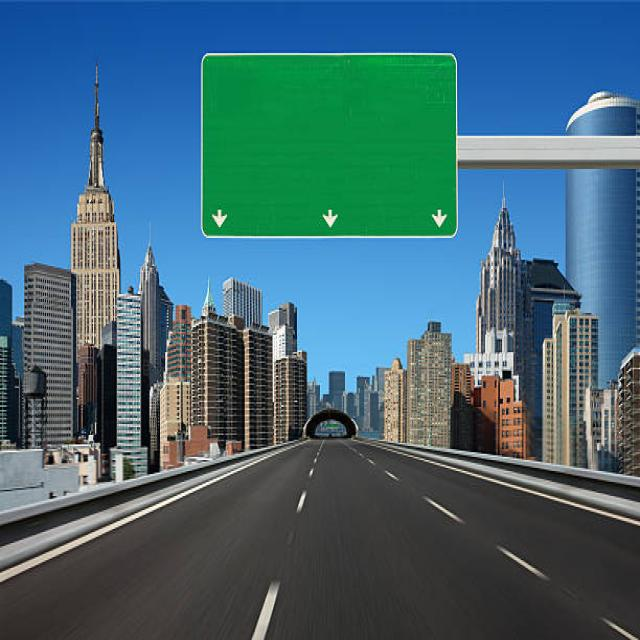Billboard_overhead: (189, 40, 474, 252)
Roadcorner: (8, 438, 274, 579), (461, 454, 639, 546)
Roadlane: (347, 438, 639, 638), (232, 435, 335, 638)
